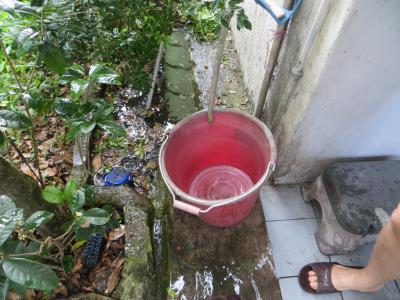bucket: (154, 102, 281, 231)
